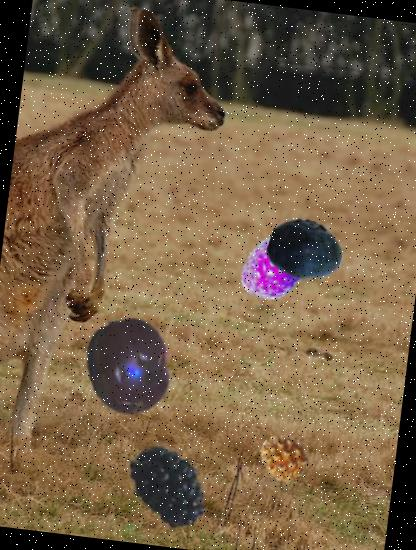Blueberry: (263, 208, 348, 293)
Mulberry: (110, 422, 224, 536)
Passion: (74, 312, 184, 422)
Pineapple: (256, 430, 312, 486)
Raspberry: (234, 228, 314, 308)
